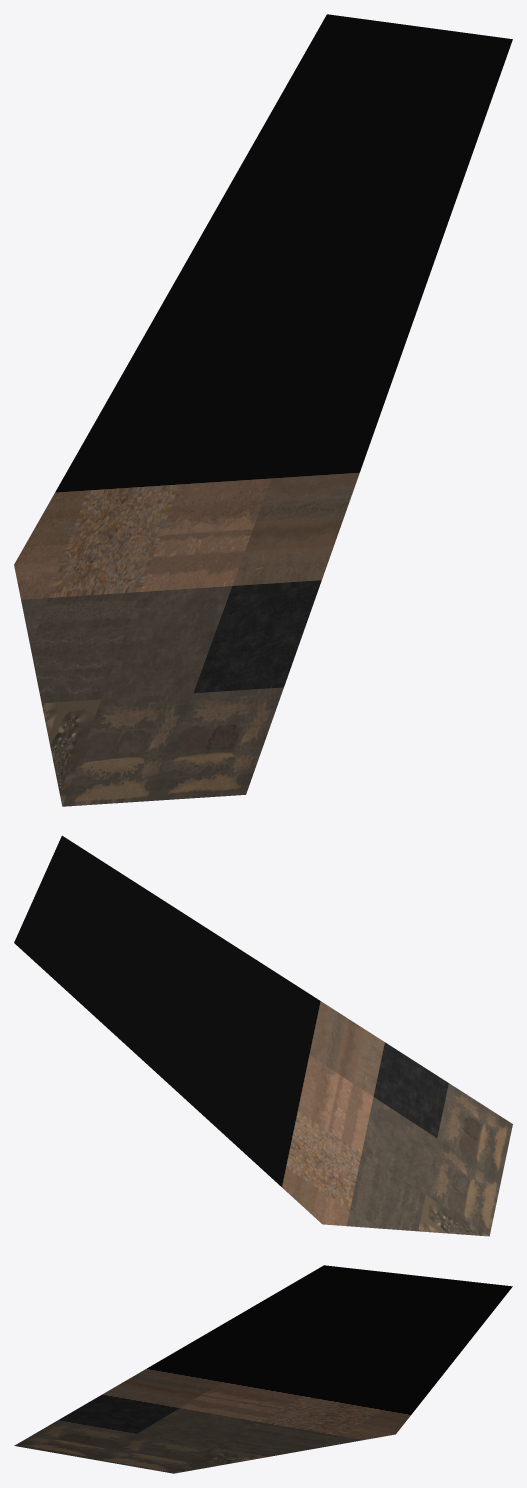
File: SM_Terrain_Road_Hills_Asphalt_Soil_05_ATLAS.fbx
The picture shows the model from 3 angles, top to bottom: view 1: azimuth 30°, elevation 25°; view 2: azimuth 150°, elevation 25°; view 3: azimuth 270°, elevation 25°; orthographic projection. The views are drawn at different scales.
Parts seen in each view (by area): view 1: SM_Terrain_Road_Hills_Asphalt_Soil_05_ATLAS_LOD0; view 2: SM_Terrain_Road_Hills_Asphalt_Soil_05_ATLAS_LOD0; view 3: SM_Terrain_Road_Hills_Asphalt_Soil_05_ATLAS_LOD0.
Part boxes in pixels (x1=…): SM_Terrain_Road_Hills_Asphalt_Soil_05_ATLAS_LOD0: x1=14, y1=14, x2=512, y2=806; SM_Terrain_Road_Hills_Asphalt_Soil_05_ATLAS_LOD0: x1=14, y1=835, x2=512, y2=1236; SM_Terrain_Road_Hills_Asphalt_Soil_05_ATLAS_LOD0: x1=14, y1=1265, x2=512, y2=1473.
Size of the model in its own units: 357 by 383 by 343.
